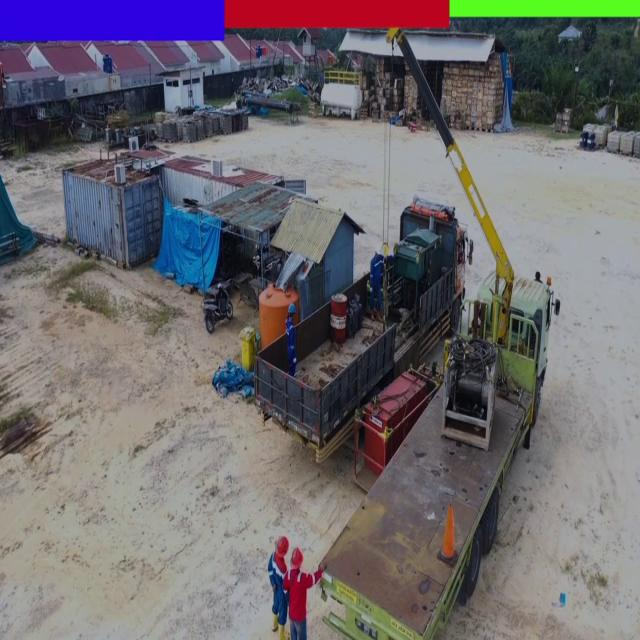Hardhat: (276, 533, 289, 557), (291, 548, 304, 567), (374, 243, 385, 260), (287, 302, 297, 316)
No Glove: (318, 559, 327, 572)
No Overall Suit: (282, 569, 322, 640), (370, 257, 384, 309), (286, 318, 296, 378)
Overall Suit: (270, 553, 288, 622)
Safety Boots: (278, 626, 290, 640), (376, 307, 384, 321), (272, 613, 278, 631), (368, 307, 374, 323)
